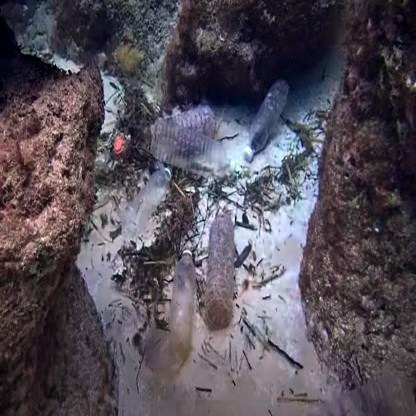pbottle: (142, 116, 237, 191), (158, 231, 201, 368), (236, 74, 294, 164), (200, 200, 240, 320), (127, 163, 174, 236)
